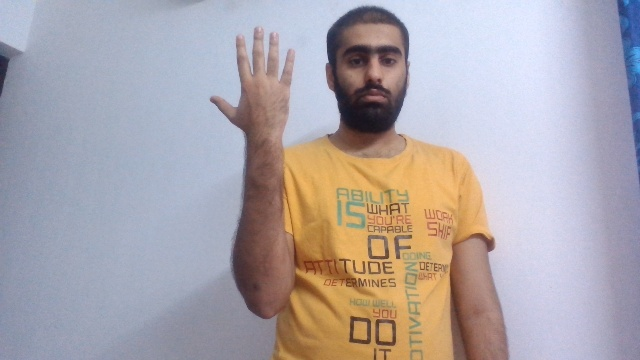paper: (207, 25, 295, 136)
